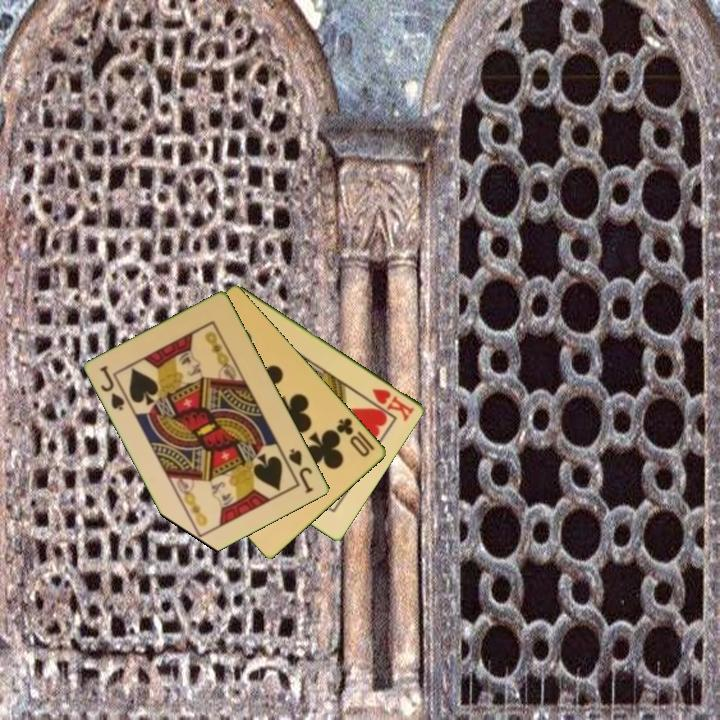10c: (333, 414, 378, 460)
Js: (97, 362, 133, 414), (286, 445, 317, 496)
Kh: (369, 385, 418, 424)
